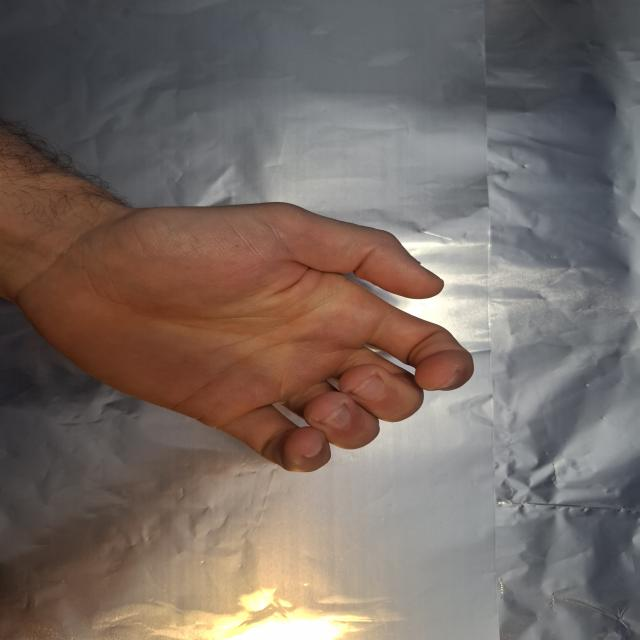glove_off: (15, 171, 477, 475)
